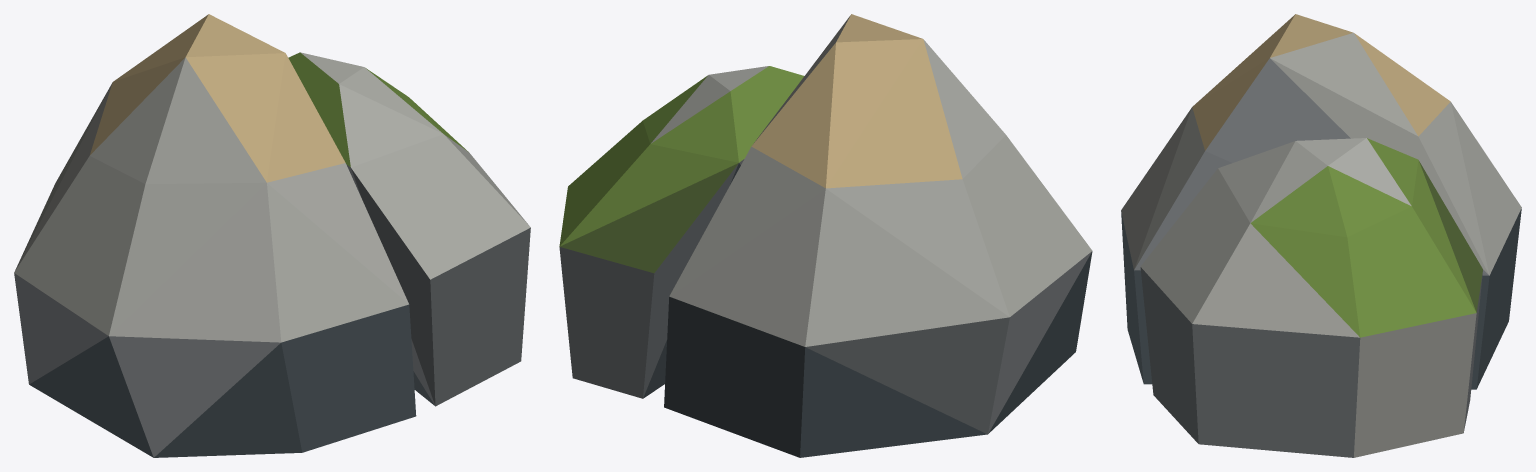
File: rock-b.glb
3 renders of one model, left to right at view 1: azimuth 30°, elevation 25°; view 2: azimuth 150°, elevation 25°; view 3: azimuth 270°, elevation 25°, orthographic. The views are drawn at different scales.
Visible parts, largest first — view 1: Rock_B_Boulder; view 2: Rock_B_Boulder; view 3: Rock_B_Boulder.
Part boxes in pixels (bbox=[...]): Rock_B_Boulder: bbox=[14, 14, 530, 457]; Rock_B_Boulder: bbox=[559, 14, 1092, 457]; Rock_B_Boulder: bbox=[1121, 14, 1521, 457].
Bounding box in the file's own units: 1.46 × 1.06 × 1.24.
1 material, 1 textured.
